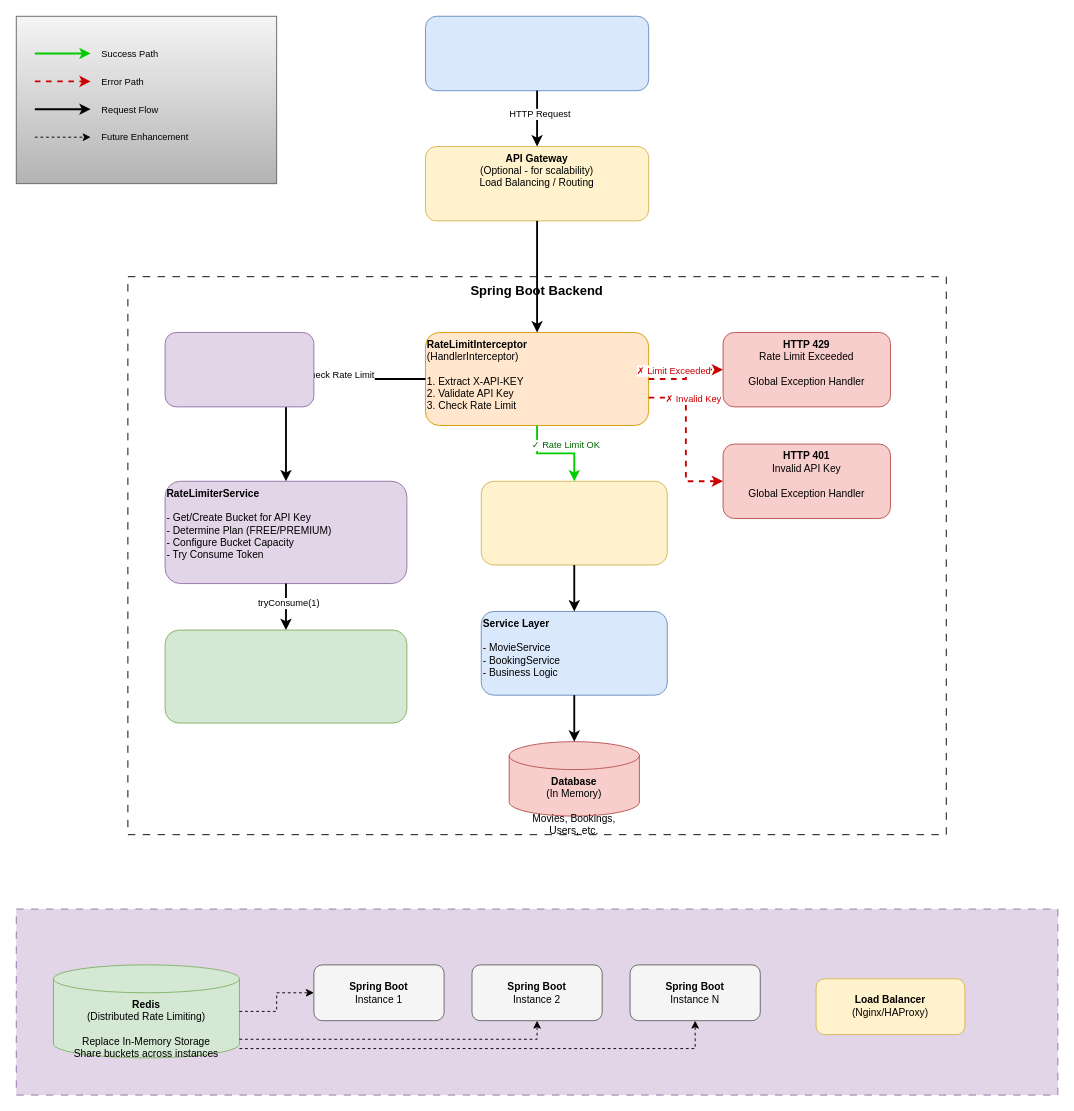
This 1074x1111 diagram has some shape labels left out. Here are the shapes that lost their labels. From the top down, the box of each, then its label:
(425, 15, 649, 91): Client (React App) Sends requests with X-API-KEY header
(15, 15, 277, 184): Legend
(164, 332, 314, 407): API Key Plans FREE: 10 req/min PREMIUM: 100 req/min
(480, 480, 667, 565): Controllers Layer - MovieController - BookingController
(164, 629, 407, 723): Bucket4j (Token Bucket Algorithm) In-Memory Bucket Storage ConcurrentHashMap
(15, 908, 1058, 1095): Future Enhancements
